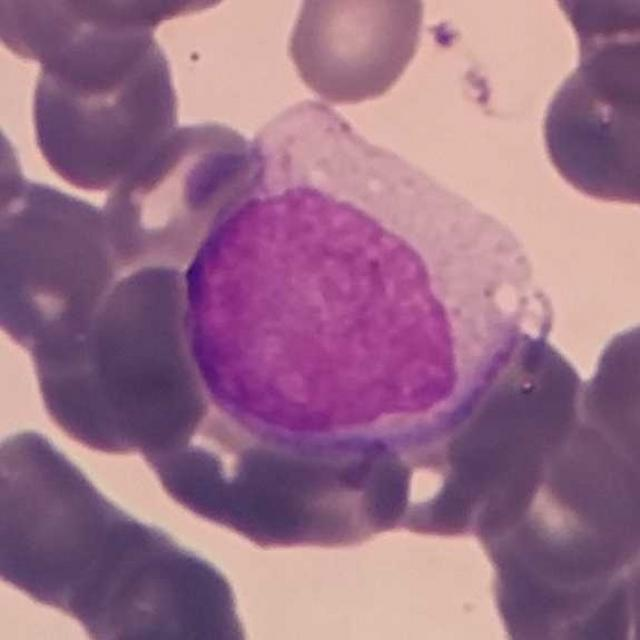Monocyte: (168, 97, 534, 458)
RBC: (360, 323, 586, 545), (61, 487, 264, 639), (466, 420, 640, 588), (224, 415, 418, 557), (79, 259, 215, 454), (22, 30, 185, 191), (99, 118, 264, 266), (24, 312, 187, 456), (0, 426, 120, 609), (364, 421, 513, 543), (533, 44, 640, 212), (483, 528, 640, 640), (0, 209, 115, 356), (280, 0, 430, 107), (5, 0, 158, 86), (577, 309, 640, 481), (563, 0, 639, 109), (0, 438, 49, 606), (38, 0, 250, 33), (0, 0, 98, 62), (540, 0, 639, 41), (0, 104, 29, 230), (621, 533, 640, 639)
